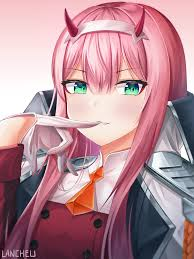zeroTwo: (51, 2, 191, 147)
